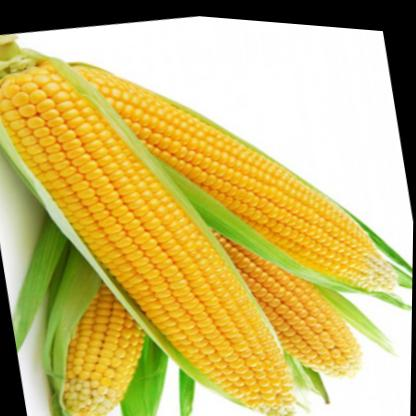corn: (0, 19, 308, 416), (51, 4, 416, 336), (201, 193, 377, 395), (37, 266, 163, 416)
